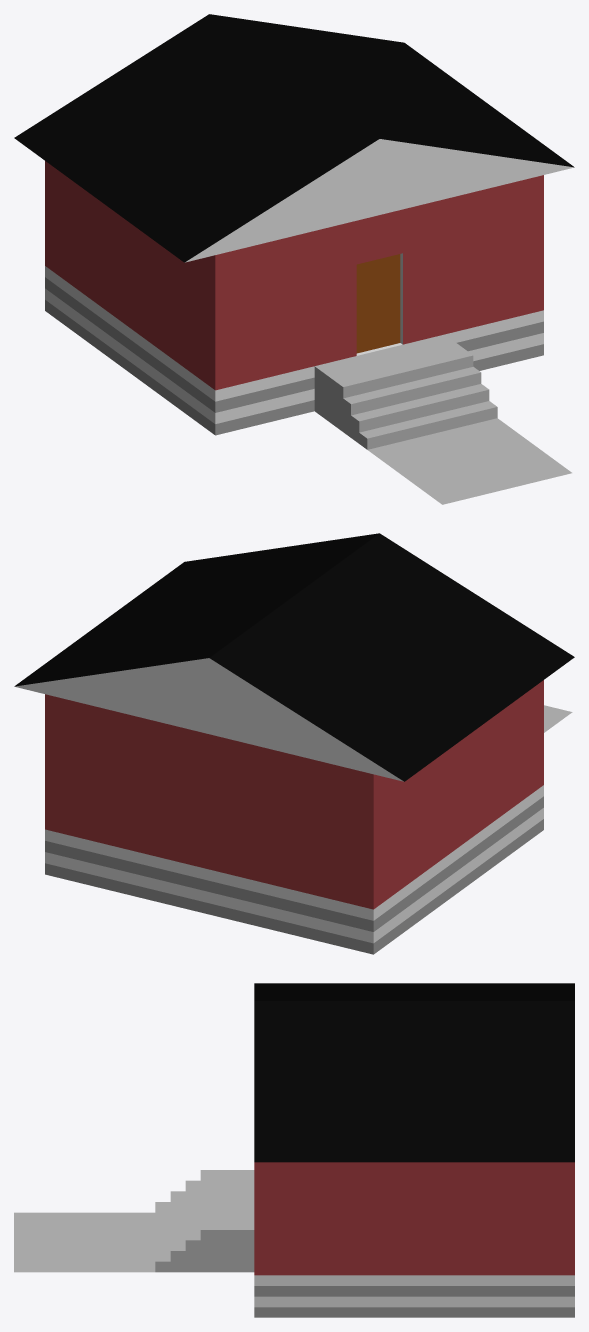
File: house red.fbx
The picture shows the model from 3 angles, top to bottom: view 1: azimuth 30°, elevation 25°; view 2: azimuth 150°, elevation 25°; view 3: azimuth 270°, elevation 25°; orthographic projection. The views are drawn at different scales.
Parts seen in each view (by area): view 1: House2; view 2: House2; view 3: House2.
Boxes of the visible parts, <box> form: House2: <box>14,14,574,504</box>; House2: <box>14,533,574,954</box>; House2: <box>14,983,574,1317</box>.
Size of the model in its own units: 601 by 377 by 794.
